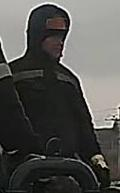gloves: (90, 154, 111, 190)
helmet: (42, 11, 69, 33)
vest: (0, 59, 95, 163)
